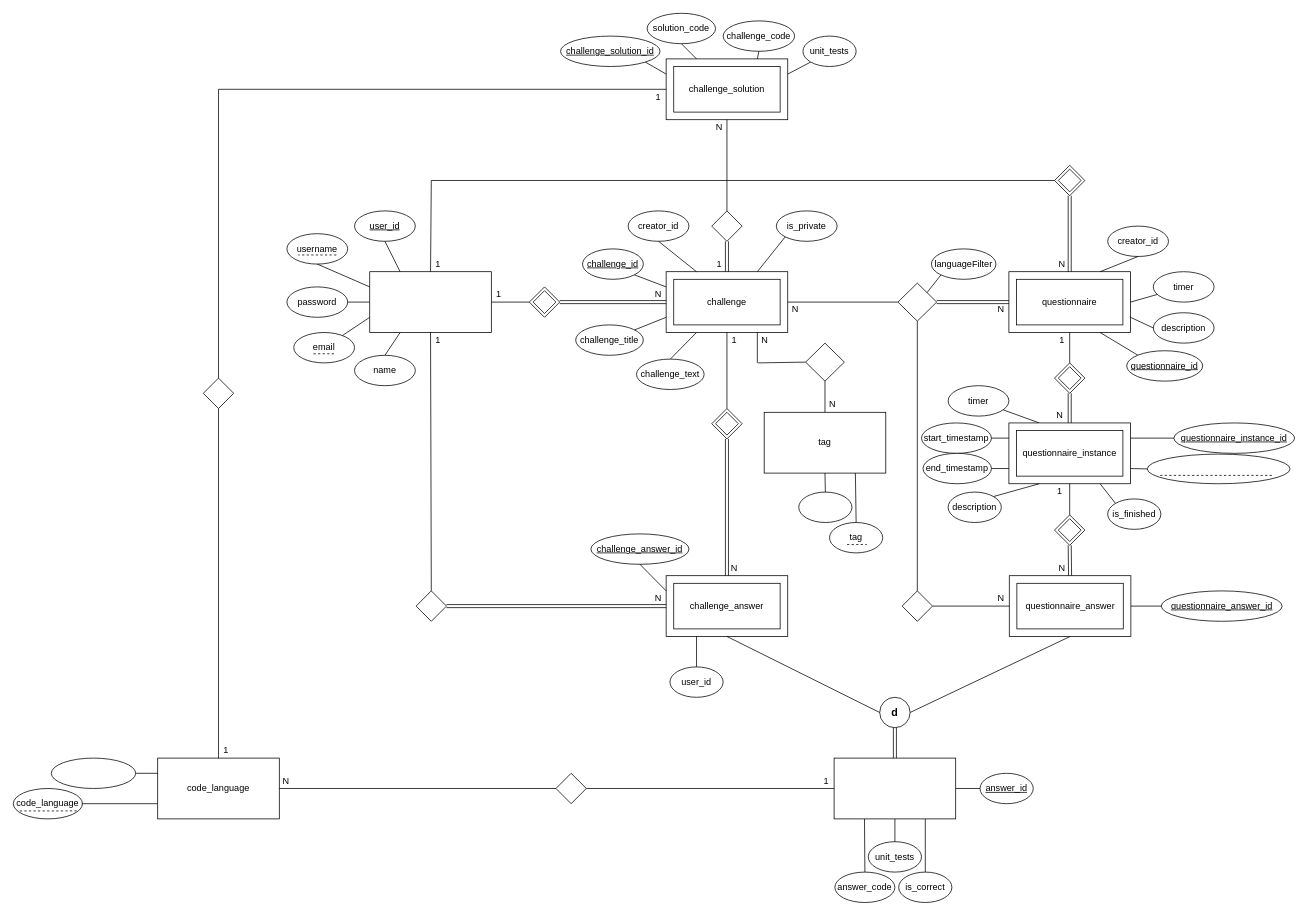
The diagram is 1308 pixels wide and 916 high, and some of its shapes have lost their labels. Here are the shapes that lost their labels. From the top down, the centre of each, then its label:
(430,301): app_user
(917,301): qc
(824,361): CT
(1218,468): questionnaire_instance_uuid
(825,506): tag_id
(93,772): code_language_id
(894,788): answer
